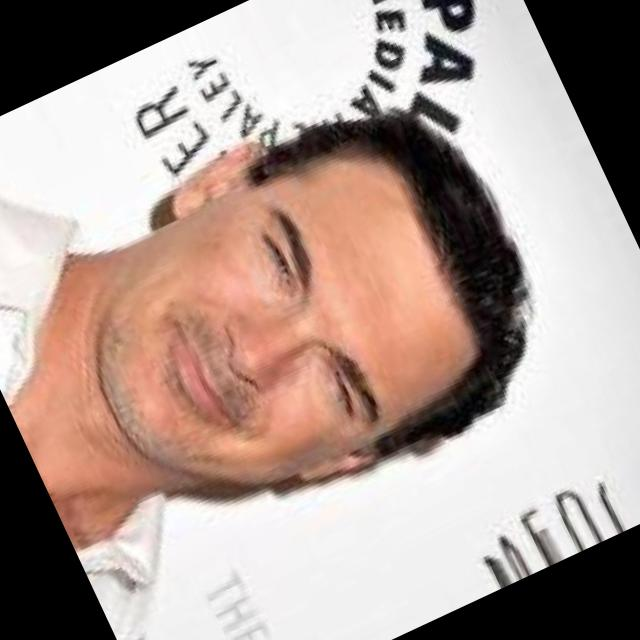bareface: (51, 113, 526, 522)
